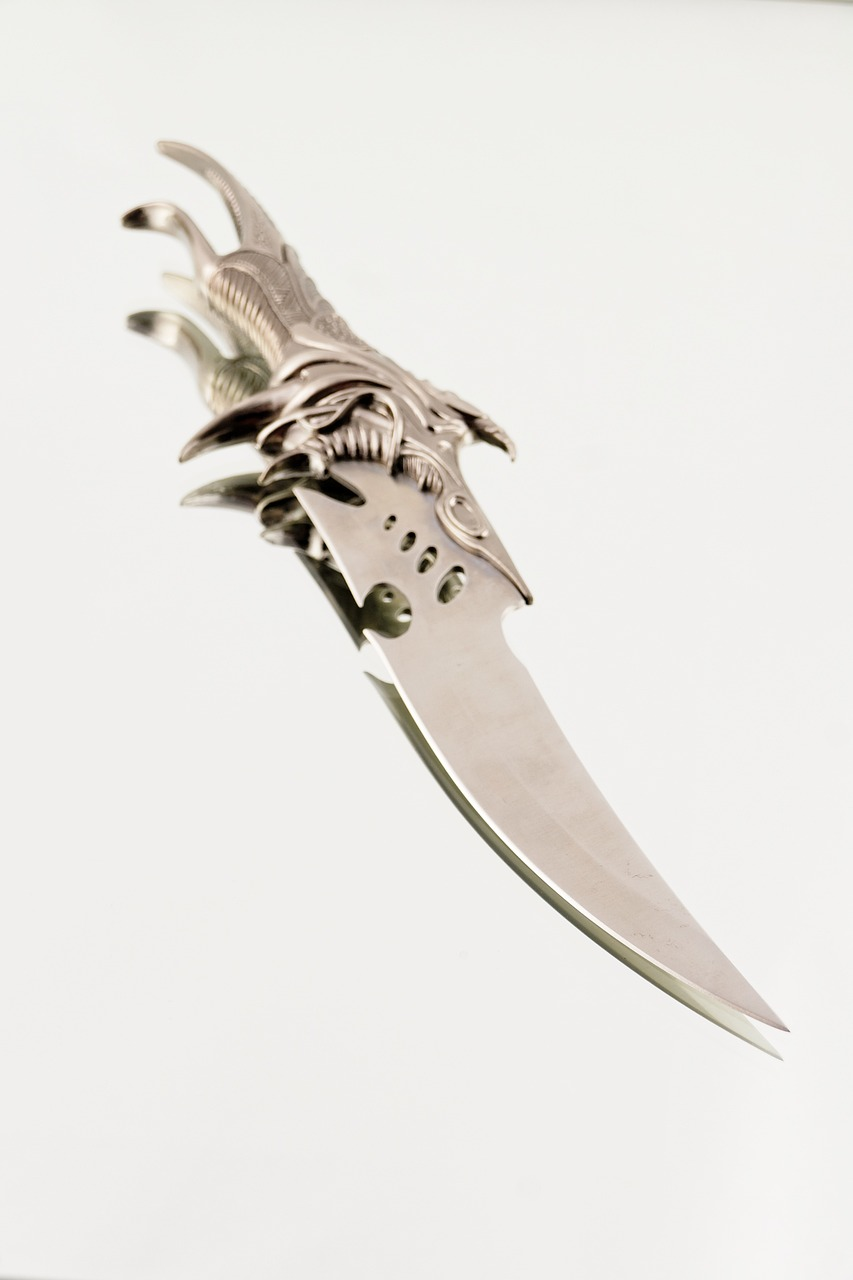knife: (101, 128, 824, 1089)
